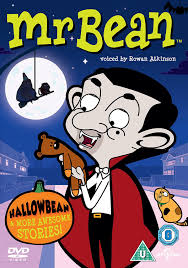mrbean: (58, 67, 180, 268)
